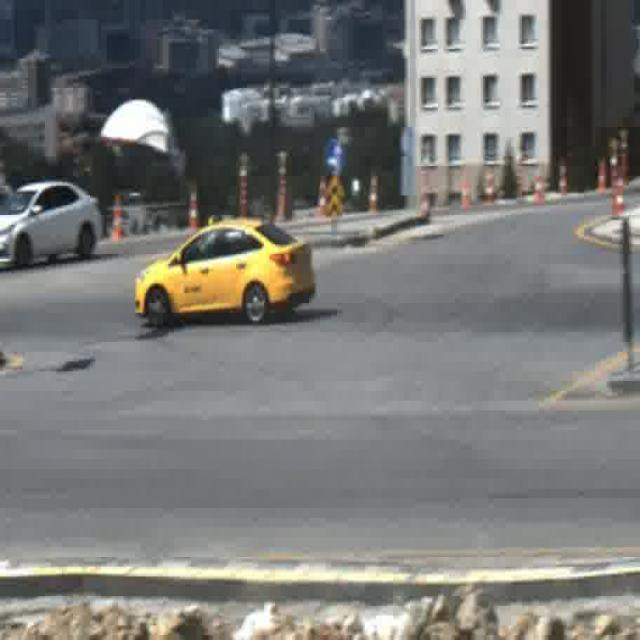Car: (133, 214, 314, 331), (0, 178, 100, 264)
